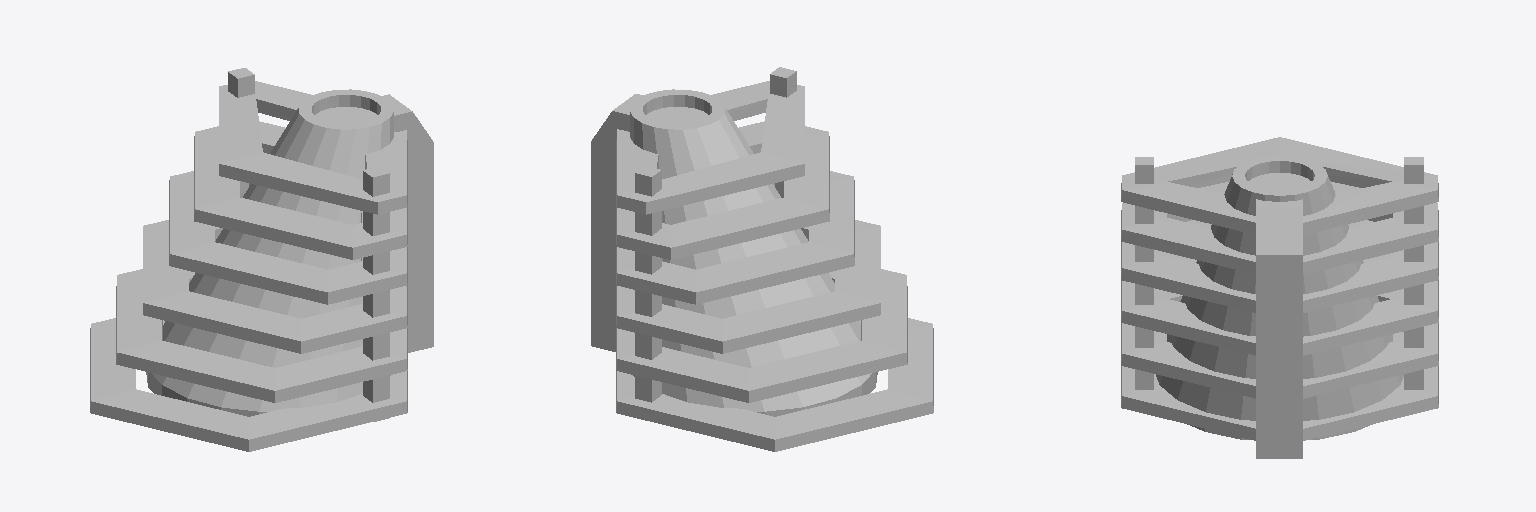
Rendered from Building2.obj.
3 views of the same model, side by side, from view 1: azimuth 30°, elevation 25°; view 2: azimuth 150°, elevation 25°; view 3: azimuth 270°, elevation 25° (orthographic).
Parts seen in each view (by area): view 1: pCylinder2; view 2: pCylinder2; view 3: pCylinder2.
Part boxes in pixels (bbox=[...]): pCylinder2: bbox=[90, 68, 433, 451]; pCylinder2: bbox=[591, 67, 933, 451]; pCylinder2: bbox=[1121, 137, 1438, 458].
Size of the model in its own units: 3.01 by 2.16 by 2.49.